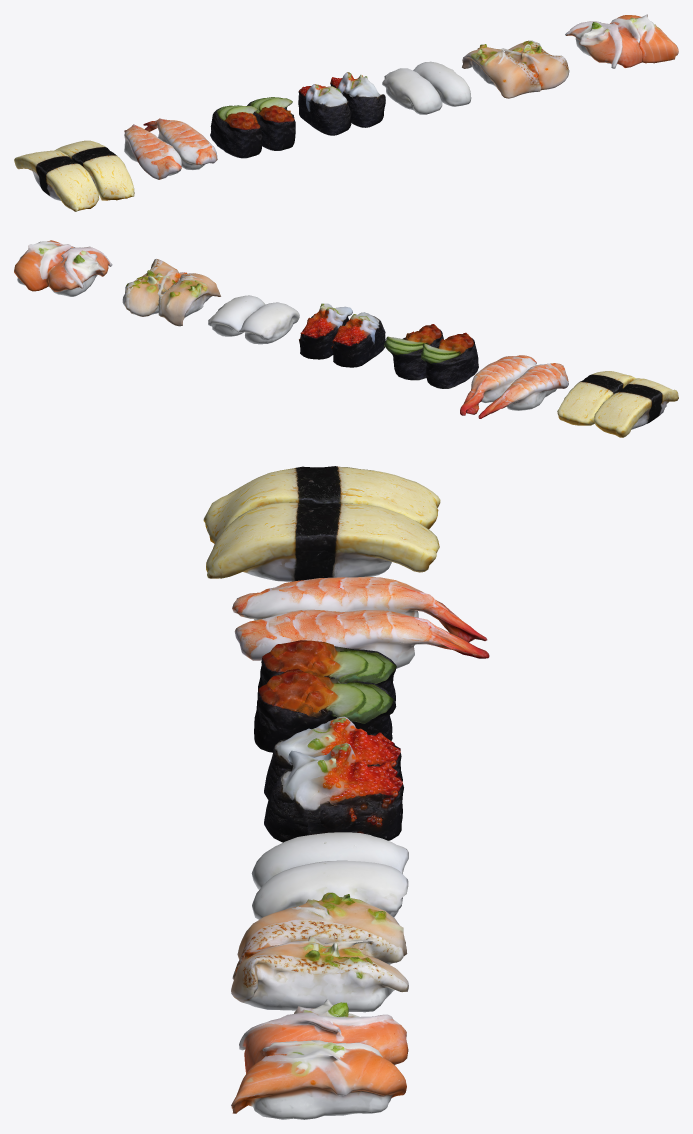
The model's file is nigiri.obj.
The picture shows the model from 3 angles, top to bottom: view 1: azimuth 30°, elevation 25°; view 2: azimuth 150°, elevation 25°; view 3: azimuth 270°, elevation 25°; orthographic projection. The views are drawn at different scales.
Parts seen in each view (by area): view 1: salmon-B, salmon-A, egg-2, egg-1, ikura-1, tobiko1, ebi-2, ebi-1, ika-2, ikura-2, tobiko2, ika-1; view 2: salmon-A, salmon-B, egg-2, ikura-1, ebi-2, egg-1, tobiko1, ebi-1, ikura-2, tobiko2, ika-2, ika-1; view 3: salmon-A, salmon-B, egg-1, tobiko2, egg-2, ebi-1, ikura-2, ebi-2, ika-1, ikura-1, ika-2, tobiko1.
Boxes of the visible parts, bbox=[...] form: salmon-B: bbox=[565, 14, 678, 68]; salmon-A: bbox=[462, 40, 569, 98]; egg-2: bbox=[14, 150, 99, 211]; egg-1: bbox=[55, 140, 134, 200]; ikura-1: bbox=[210, 105, 262, 158]; tobiko1: bbox=[298, 84, 351, 135]; ebi-2: bbox=[124, 124, 181, 179]; ebi-1: bbox=[143, 118, 217, 170]; ika-2: bbox=[382, 68, 442, 114]; ikura-2: bbox=[247, 97, 295, 150]; tobiko2: bbox=[330, 72, 385, 127]; ika-1: bbox=[413, 61, 471, 106]; salmon-A: bbox=[122, 258, 220, 326]; salmon-B: bbox=[14, 240, 112, 296]; egg-2: bbox=[594, 378, 678, 437]; ikura-1: bbox=[421, 332, 478, 388]; ebi-2: bbox=[478, 363, 568, 418]; egg-1: bbox=[557, 371, 636, 425]; tobiko1: bbox=[331, 312, 385, 367]; ebi-1: bbox=[460, 355, 536, 415]; ikura-2: bbox=[384, 324, 443, 380]; tobiko2: bbox=[299, 303, 352, 359]; ika-2: bbox=[239, 302, 299, 344]; ika-1: bbox=[208, 295, 265, 336]; salmon-A: bbox=[231, 892, 408, 1012]; salmon-B: bbox=[231, 999, 408, 1119]; egg-1: bbox=[206, 502, 439, 581]; tobiko2: bbox=[264, 743, 403, 842]; egg-2: bbox=[203, 466, 440, 543]; ebi-1: bbox=[234, 609, 489, 668]; ikura-2: bbox=[254, 668, 393, 752]; ebi-2: bbox=[232, 576, 487, 642]; ika-1: bbox=[252, 860, 408, 919]; ikura-1: bbox=[257, 640, 396, 714]; ika-2: bbox=[251, 832, 408, 889]; tobiko1: bbox=[264, 716, 402, 799].
Size of the model in its own units: 48.08 by 3.07 by 9.63.
Materials: 1 (1 with a texture image).
